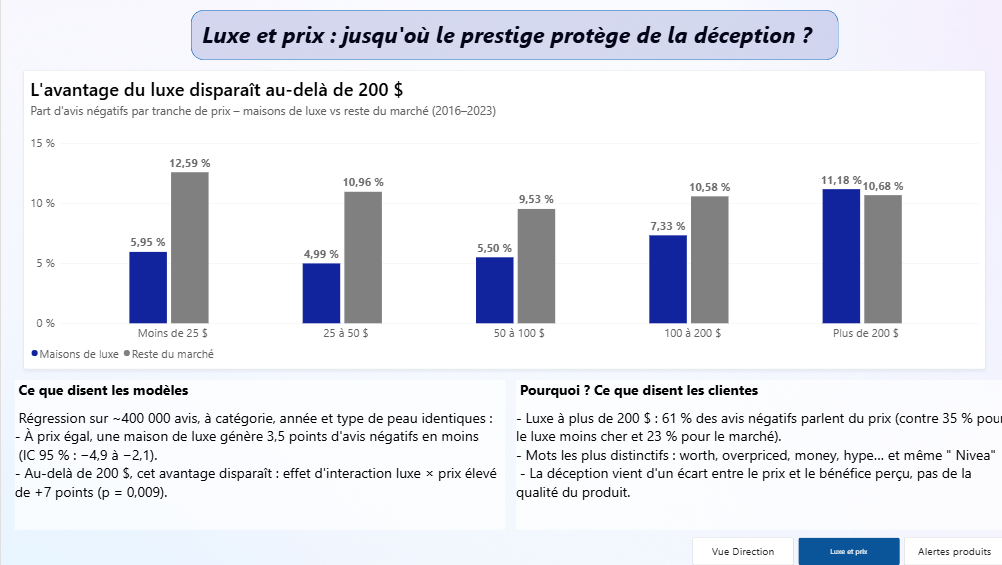

Layout of this report page (visuals, bound fields, positions):
{"tool":"powerbi","page":{"name":"Luxe et prix","canvas":[1920,1080],"ordinal":1},"visuals":[{"type":"clusteredColumnChart","title":"L''avantage du luxe disparaît au-delà de 200 $","fields":{"Category":["negatifs_par_tranche_prix.Tranche de prix"],"Series":["negatifs_par_tranche_prix.Univers"],"Y":["negatifs_par_tranche_prix.% négatifs tranche"]},"box":[43,134,1836.1,571.6],"z":0},{"type":"textbox","box":[0,0,1785.5,571.6],"z":1000},{"type":"textbox","box":[0,35.4,1919.5,98.6],"z":2000},{"type":"textbox","box":[25.3,725.8,935.7,285.8],"z":3000},{"type":"textbox","box":[983.8,725.8,935.7,285.8],"z":4000},{"type":"pageNavigator","box":[1320.1,1026.8,599.4,53.1],"z":4001},{"type":"shape","box":[362.6,19.1,1235.8,95.4],"z":4002}]}

Visuals, with their boxes in screenshot pixels (x1, y1, x2, y2), scaled from the page's 1920x1080 canvas onto the 1002x565 screenshot:
"L''avantage du luxe disparaît au-delà de 200 $" clusteredColumnChart: 22,70,981,369
textbox: 0,0,932,299
textbox: 0,19,1001,70
textbox: 13,380,502,529
textbox: 513,380,1001,529
pageNavigator: 689,537,1001,564
shape: 189,10,834,60
